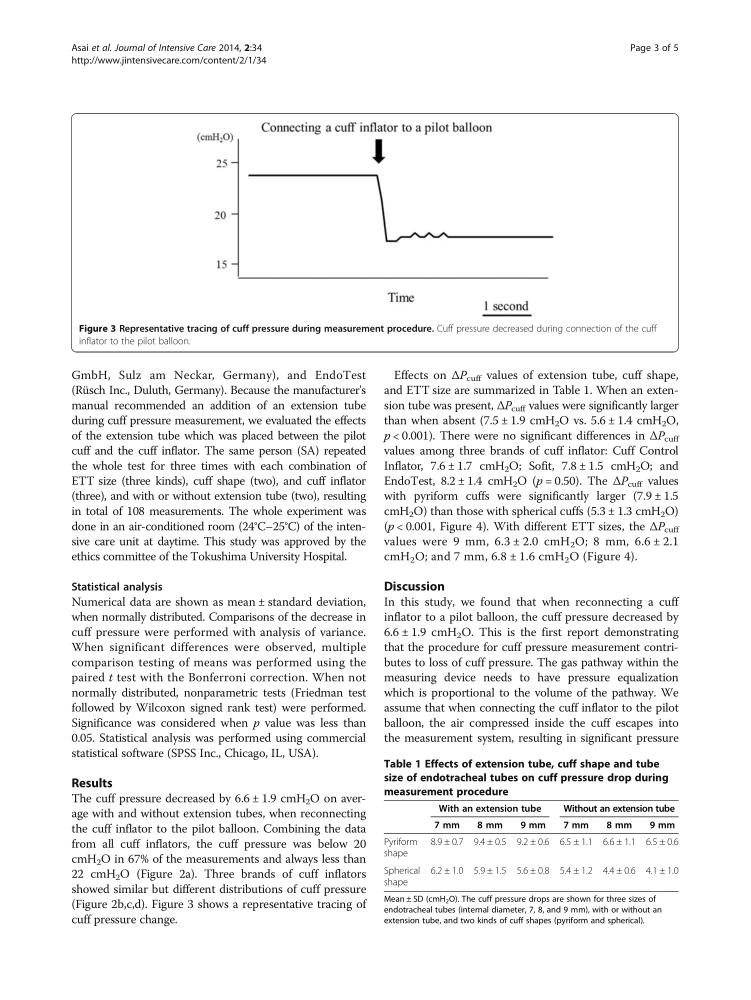table: (383, 802, 678, 887)
